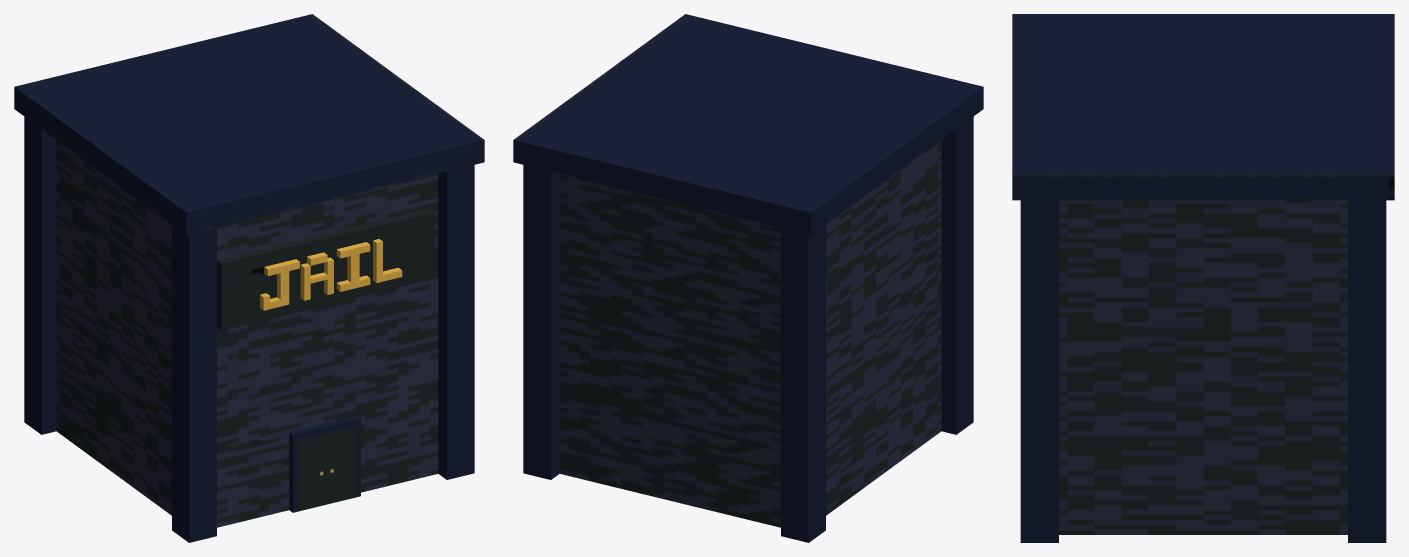
The model's file is Prison.fbx.
The picture shows the model from 3 angles, left to right: view 1: azimuth 30°, elevation 25°; view 2: azimuth 150°, elevation 25°; view 3: azimuth 270°, elevation 25°; orthographic projection. The views are drawn at different scales.
Visible parts, largest first — view 1: Object; view 2: Object; view 3: Object.
Boxes of the visible parts, x1,y1,x2,y2 form: Object: [14, 14, 484, 542]; Object: [513, 14, 983, 542]; Object: [1012, 14, 1394, 542].
Size of the model in its own units: 140 by 150 by 140.
